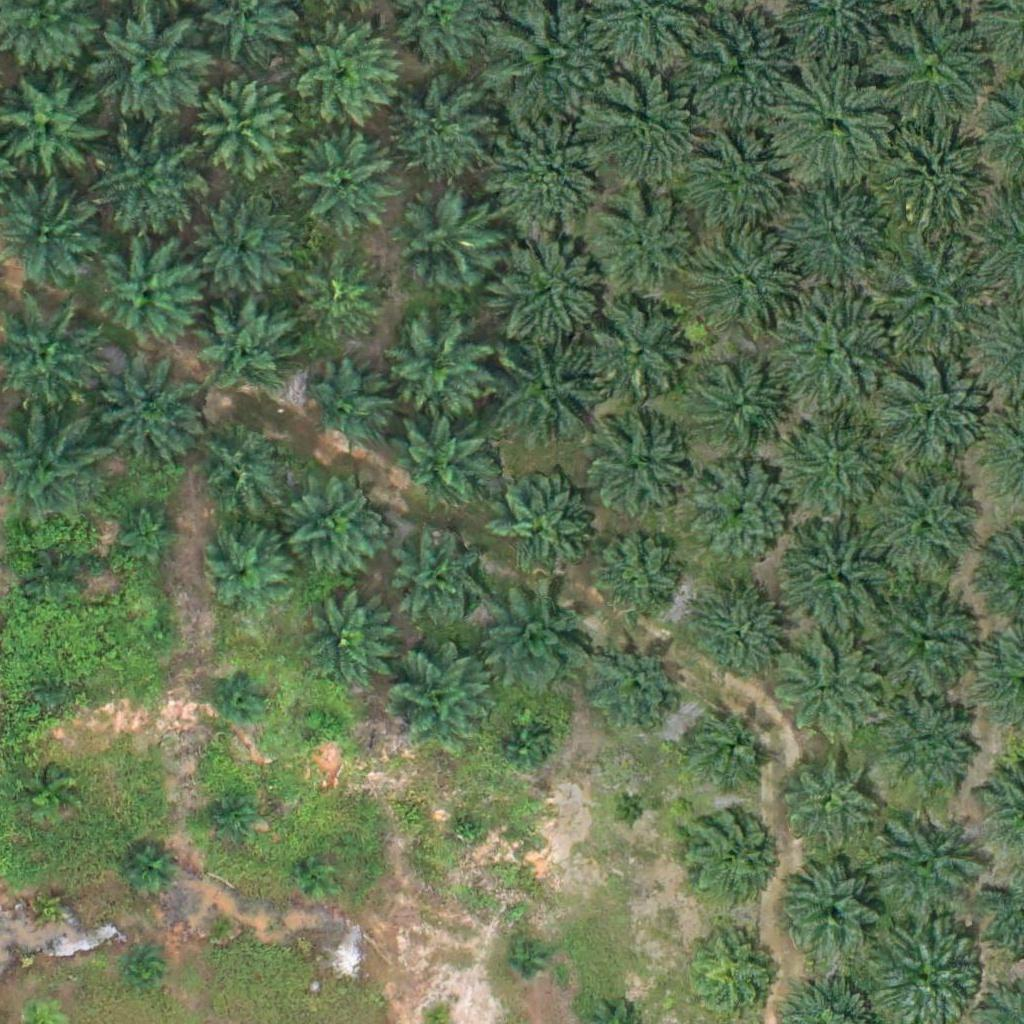Kelapa_Sawit: (89, 7, 214, 133), (488, 109, 613, 235), (579, 74, 704, 200), (772, 513, 897, 639), (769, 406, 894, 532), (769, 284, 894, 410), (771, 64, 896, 190), (879, 105, 1004, 231), (869, 228, 994, 354), (870, 357, 995, 483), (863, 577, 988, 703), (483, 226, 608, 351), (772, 188, 885, 302), (92, 358, 205, 471), (90, 128, 203, 241), (492, 337, 605, 450), (483, 586, 596, 699), (868, 470, 981, 583), (870, 691, 983, 804), (867, 809, 980, 922), (289, 22, 401, 136), (877, 15, 989, 128), (772, 636, 884, 749), (390, 410, 490, 511), (285, 479, 385, 580), (196, 203, 296, 304), (196, 297, 296, 398), (189, 416, 289, 517), (97, 243, 197, 344), (1, 79, 101, 180), (491, 477, 591, 578), (588, 425, 688, 526), (586, 304, 686, 405), (591, 192, 691, 293), (699, 234, 799, 335), (692, 463, 792, 564), (688, 588, 788, 689), (774, 742, 874, 843), (785, 859, 885, 960), (677, 697, 777, 798), (679, 803, 779, 904), (390, 651, 490, 752), (390, 86, 490, 186), (398, 194, 498, 294), (386, 320, 486, 420), (297, 136, 397, 236), (194, 81, 294, 181), (680, 127, 780, 227), (293, 591, 393, 691), (690, 14, 789, 114), (305, 364, 393, 452), (298, 256, 386, 344), (392, 534, 480, 622), (695, 368, 783, 456), (203, 531, 290, 620), (592, 642, 679, 731), (591, 535, 678, 623), (119, 499, 181, 562), (23, 768, 73, 819), (120, 848, 170, 899), (498, 719, 548, 770), (28, 877, 78, 928), (30, 557, 80, 607), (204, 793, 254, 843), (217, 670, 267, 720), (307, 705, 345, 743), (298, 856, 336, 894), (450, 812, 488, 850), (612, 793, 650, 831), (36, 672, 73, 710), (141, 617, 178, 655), (502, 941, 539, 979), (199, 902, 236, 940), (125, 952, 162, 989)
